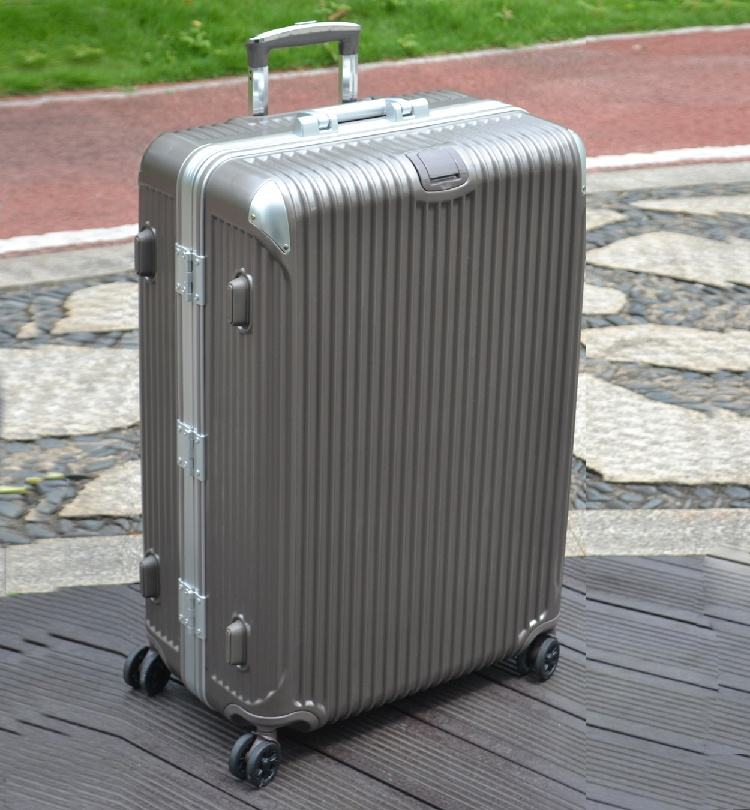box: (137, 91, 586, 722)
handle: (294, 96, 431, 138)
wheel: (229, 730, 281, 788), (123, 644, 170, 699), (518, 634, 560, 682)
